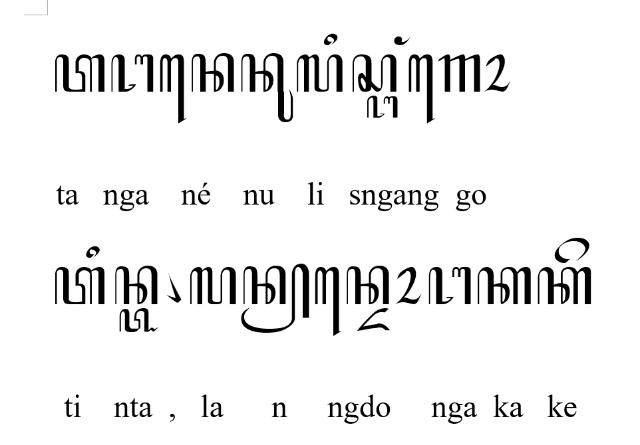-n: (241, 263, 309, 333)
_d: (358, 308, 390, 332)
_t: (119, 308, 159, 333)
e: (554, 238, 590, 265)
e1: (408, 54, 436, 124), (314, 267, 342, 336), (160, 54, 186, 124)
g: (439, 54, 481, 92)
i: (324, 34, 338, 46), (86, 246, 100, 258)
k: (538, 266, 592, 306), (476, 267, 532, 305)
kom: (166, 273, 182, 303)
l: (190, 267, 236, 305), (298, 55, 342, 93)
n: (114, 265, 158, 305), (346, 266, 390, 306), (192, 54, 234, 92)
ng: (394, 37, 412, 45)
nga: (110, 54, 154, 92), (428, 267, 472, 305), (367, 96, 399, 118)
nu: (240, 54, 294, 122)
o: (484, 53, 510, 91), (395, 266, 421, 304)
s: (352, 54, 396, 92)
t: (54, 266, 106, 306), (54, 54, 106, 92)
